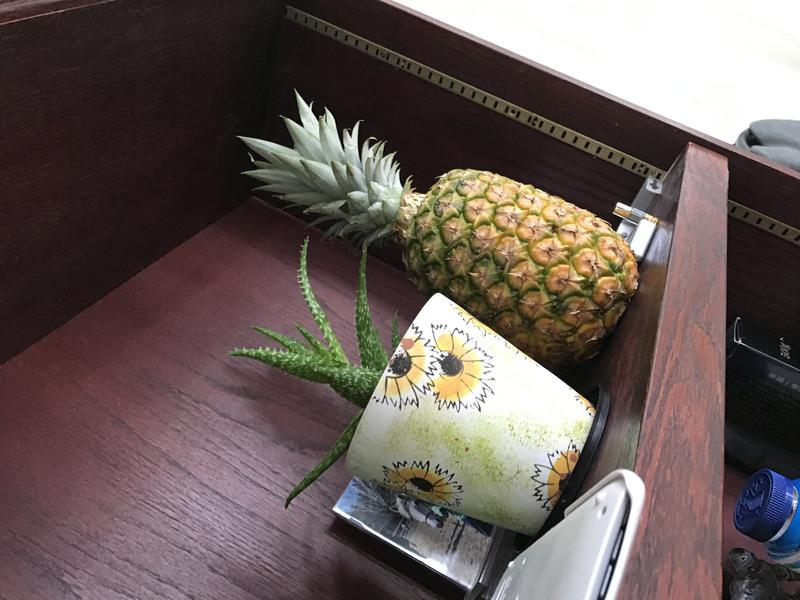pineapple: (228, 96, 651, 385)
